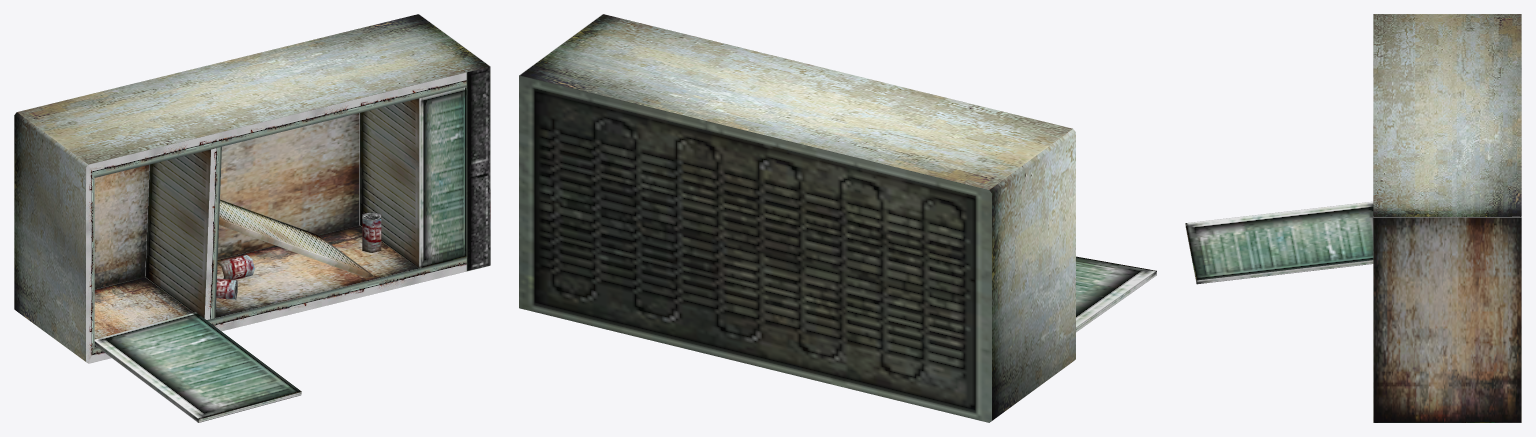
Rendered from fridge_abandoned_side.fbx.
3 views of the same model, side by side, from view 1: azimuth 30°, elevation 25°; view 2: azimuth 150°, elevation 25°; view 3: azimuth 270°, elevation 25° (orthographic). The views are drawn at different scales.
Parts seen in each view (by area): view 1: mesh_0; view 2: mesh_0; view 3: mesh_0.
Boxes of the visible parts, x1,y1,x2,y2 form: mesh_0: (14, 14, 490, 422); mesh_0: (519, 14, 1156, 422); mesh_0: (1185, 14, 1521, 422).
Size of the model in its own units: 170 by 80 by 118.
1 material, 1 textured.
